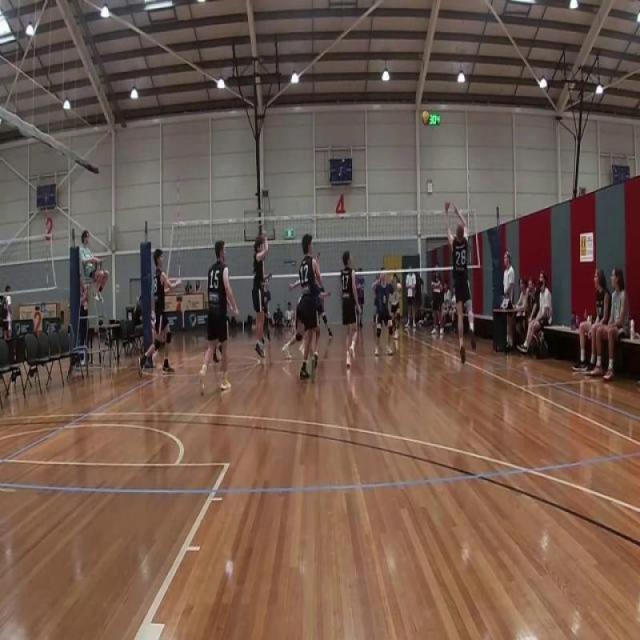volleyball: (421, 110, 431, 126)
